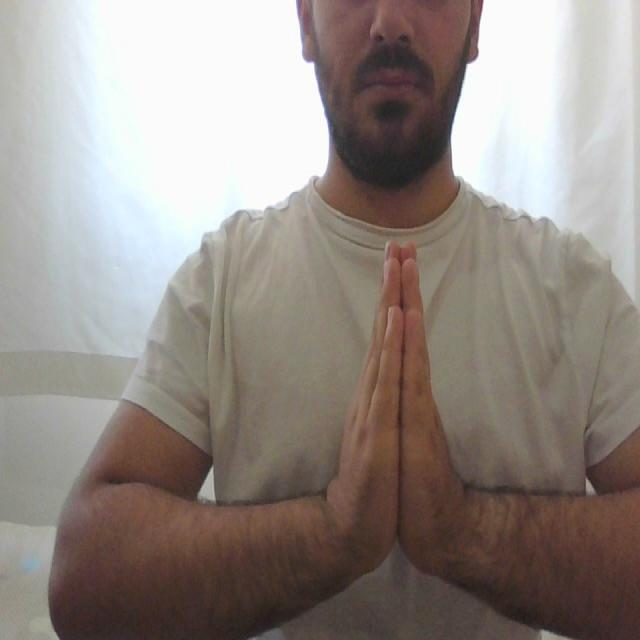Ozur-Dilemek: (317, 234, 482, 594)
